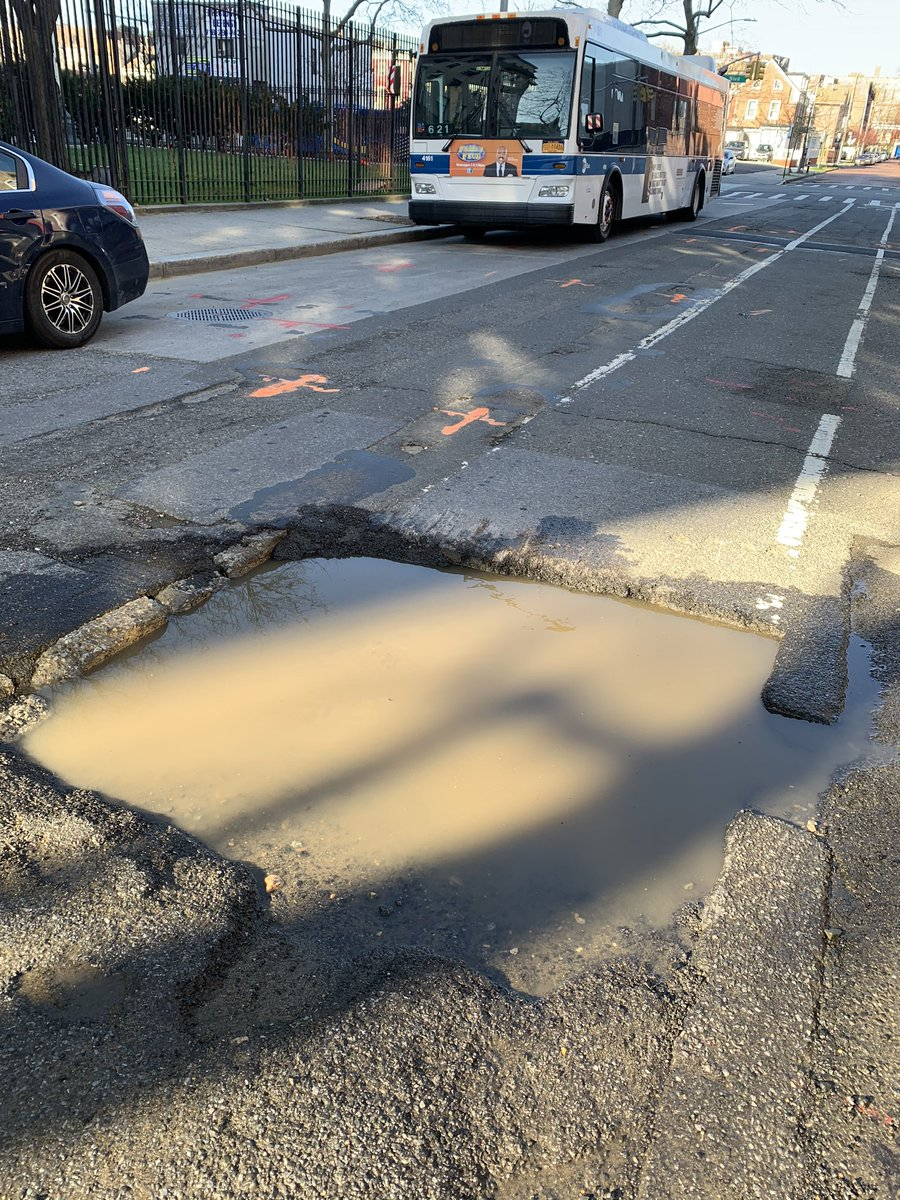bus: (418, 27, 742, 238)
street: (16, 177, 900, 1192)
